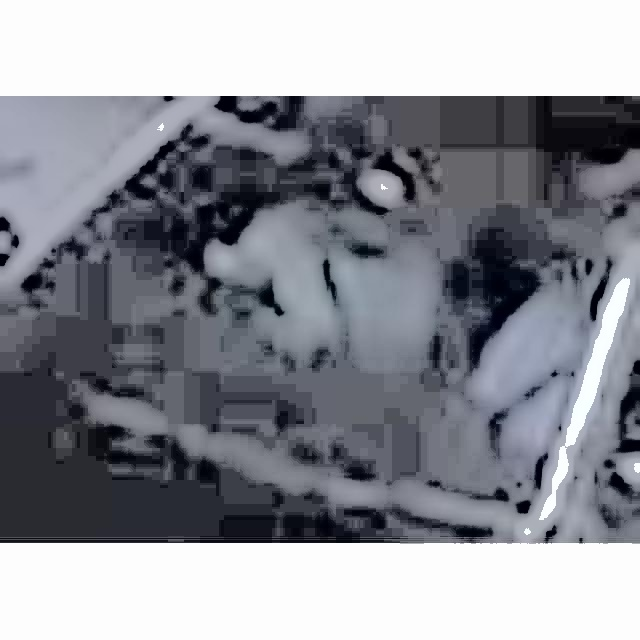pakai: (200, 165, 434, 419), (489, 247, 599, 488)
